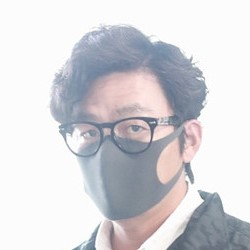mask: (68, 130, 186, 218)
